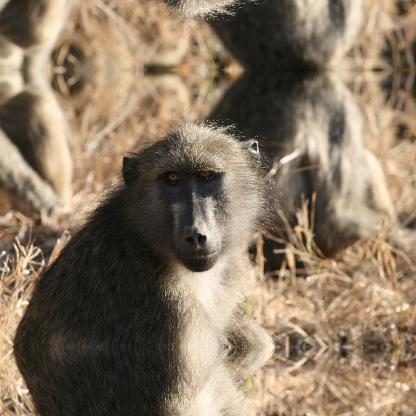Monkey: (11, 113, 278, 345), (11, 347, 279, 415)
